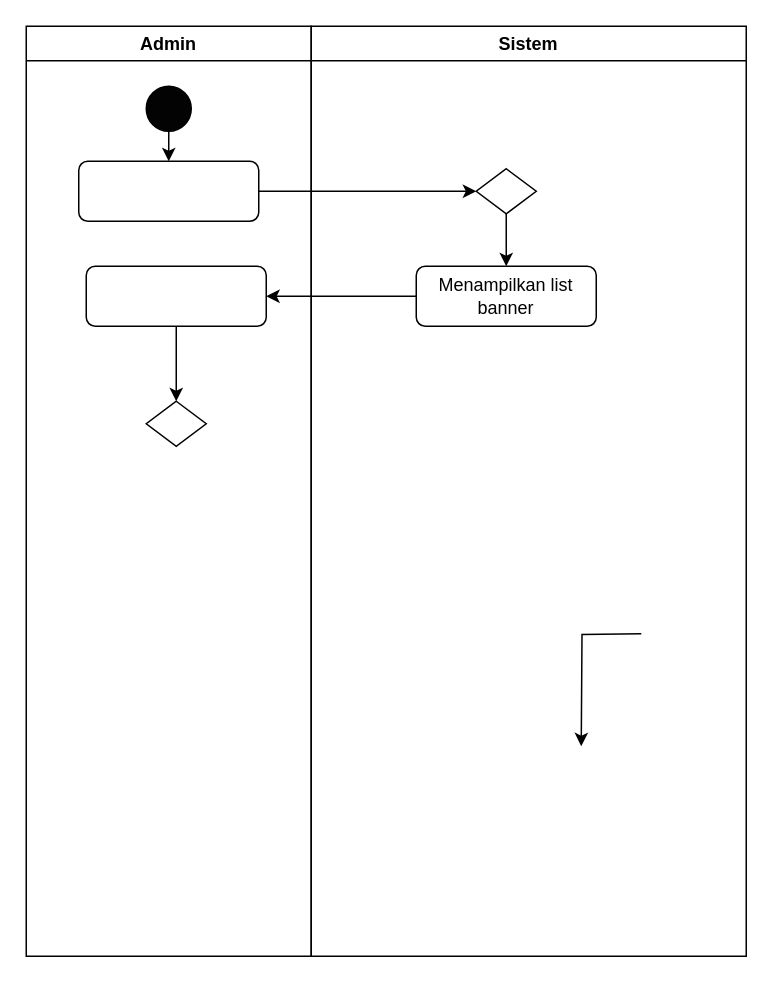
This 773x983 diagram has some shape labels left out. The shapes that lost their labels are listed below. From the top down, each one's centre as x and y in pixels, then its label:
At point (168, 190): "Membuka halaman banner".
At point (175, 295): "Pilih operasi".
